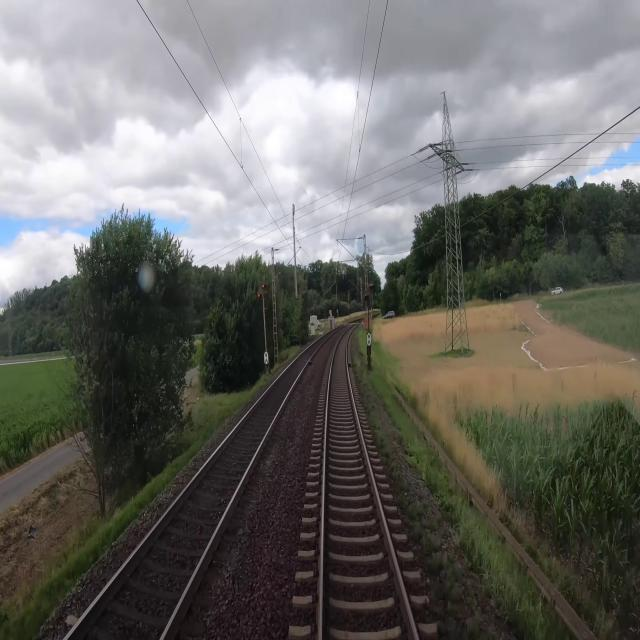Plant: (353, 359, 497, 639)
